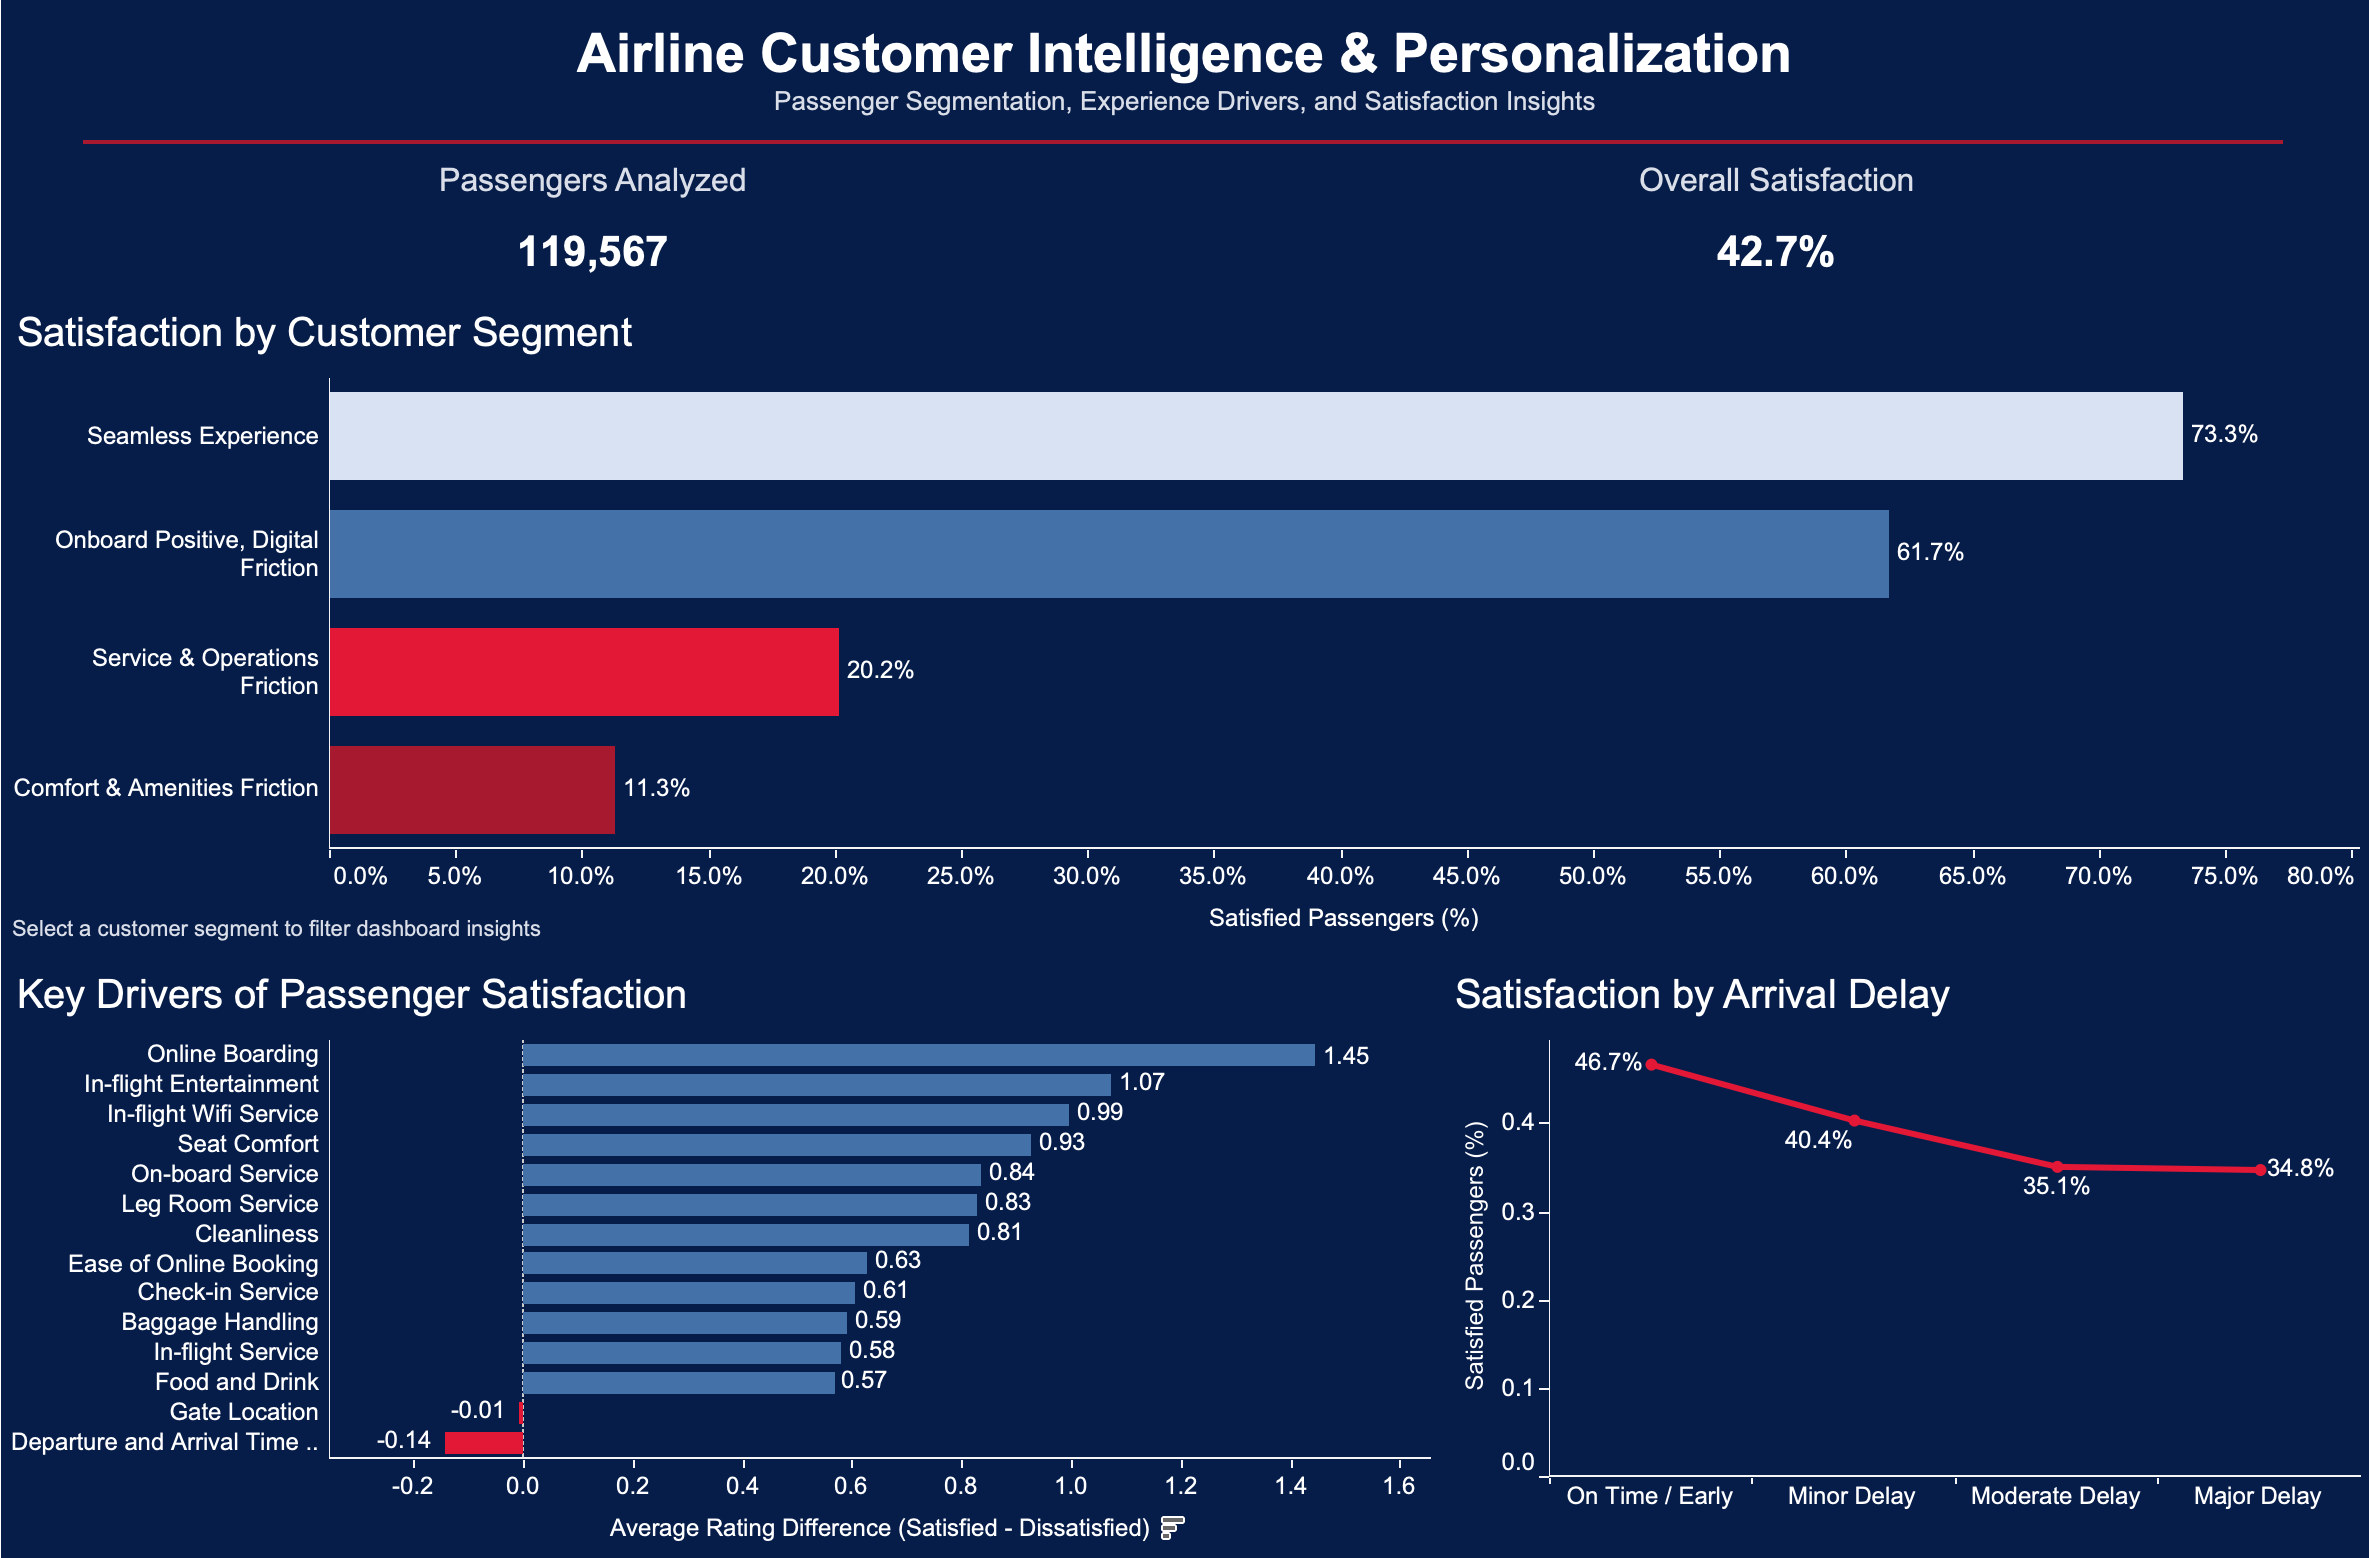

What the dashboard file says about the page in this screenshot:
{"tool":"tableau","page":{"name":"Dashboard 1","canvas":[1200,800],"ordinal":0},"visuals":[{"type":"text","box":[8,8,1184,75]},{"type":"blank","box":[49,80,1100,2]},{"type":"worksheet","title":"KPI - Passengers","mark":"Automatic","box":[8,83,592,74]},{"type":"worksheet","title":"KPI - Satisfaction","mark":"Automatic","box":[600,83,592,74]},{"type":"worksheet","title":"Satisfaction by Segment","mark":"Automatic","rows":["Customer Segment"],"cols":["Calculation_0947277256101889"],"box":[8,157,1184,331]},{"type":"text","box":[11,456,403,38]},{"type":"worksheet","title":"Experience Drivers","mark":"Bar","rows":["Experience Attribute"],"cols":["Satisfaction Gap"],"box":[8,488,719,304]},{"type":"worksheet","title":"Satisfaction by Arrival Delay","mark":"Line","rows":["Calculation_0947277256101889"],"cols":["Arrival Delay Category"],"box":[727,488,465,304]}]}

Visuals, with their boxes in screenshot pixels (x1, y1, x2, y2), scaled from the page's 1200x800 canvas onto the 2369x1558 screenshot:
text: Rect(16, 16, 2353, 162)
blank: Rect(97, 156, 2268, 160)
"KPI - Passengers" worksheet: Rect(16, 162, 1184, 306)
"KPI - Satisfaction" worksheet: Rect(1184, 162, 2353, 306)
"Satisfaction by Segment" worksheet: Rect(16, 306, 2353, 950)
text: Rect(22, 888, 817, 962)
"Experience Drivers" worksheet (Bar marks): Rect(16, 950, 1435, 1542)
"Satisfaction by Arrival Delay" worksheet (Line marks): Rect(1435, 950, 2353, 1542)
